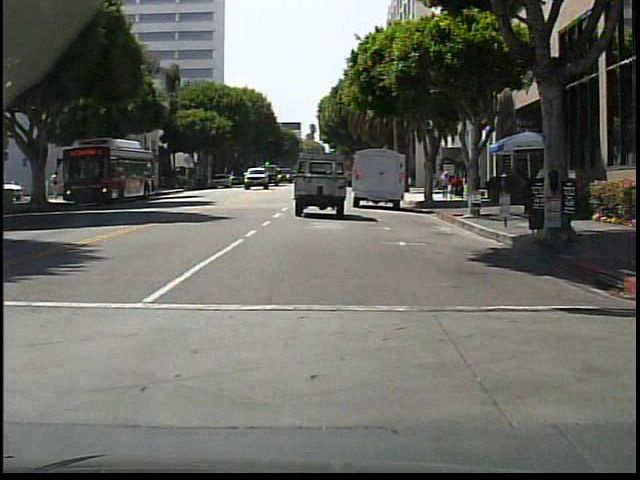person: (52, 172, 64, 200), (430, 167, 439, 202), (440, 170, 450, 200)
